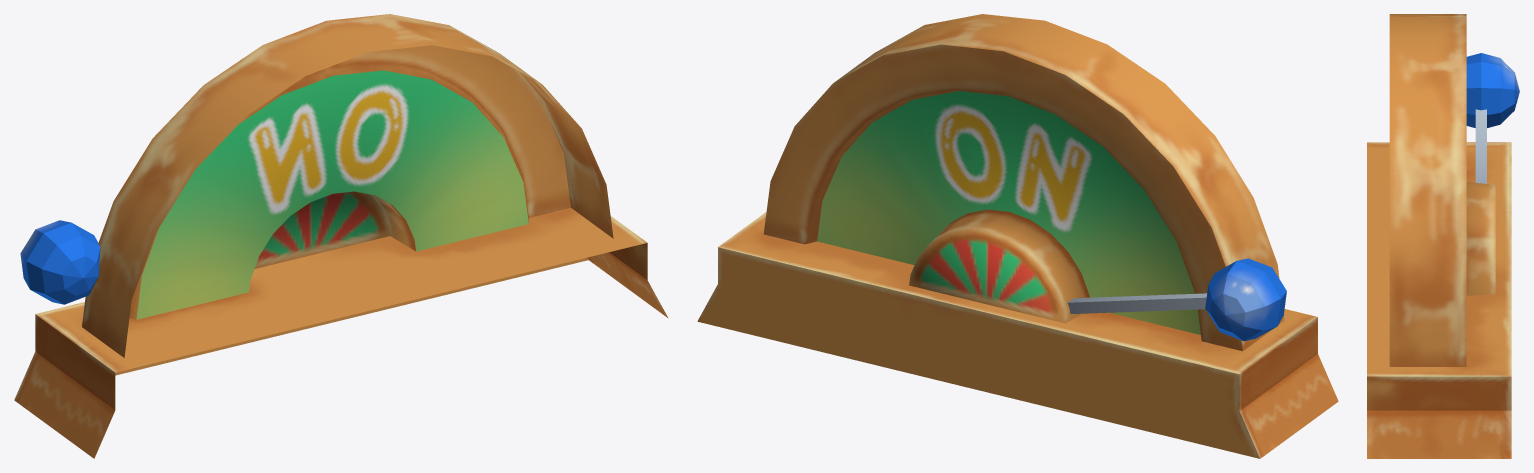
Rendered from Switch_On_Magic.fbx.
3 views of the same model, side by side, from view 1: azimuth 30°, elevation 25°; view 2: azimuth 150°, elevation 25°; view 3: azimuth 270°, elevation 25° (orthographic). The views are drawn at different scales.
Parts seen in each view (by area): view 1: polySurface4; view 2: polySurface4; view 3: polySurface4.
Boxes of the visible parts, x1,y1,x2,y2 form: polySurface4: [14, 14, 668, 458]; polySurface4: [697, 14, 1338, 458]; polySurface4: [1367, 14, 1519, 458].
Size of the model in its own units: 0.5105 by 0.2761 by 0.1294.
1 material, 1 textured.
